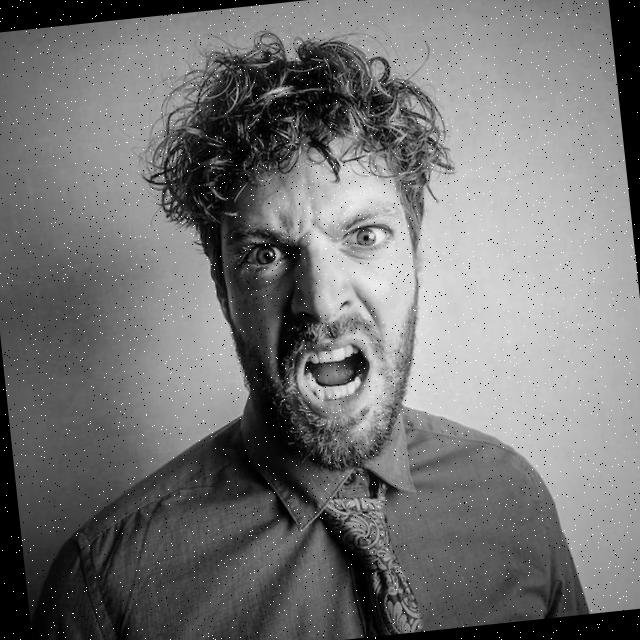Angry: (209, 115, 435, 480)
